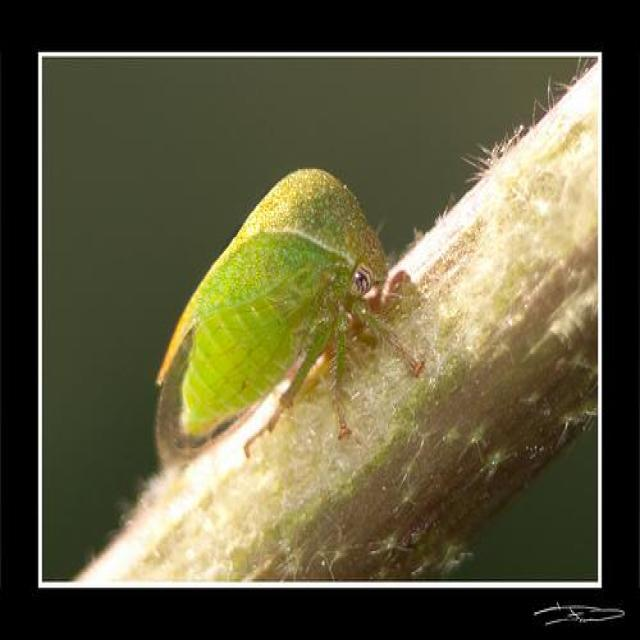aphid: (150, 141, 444, 473)
